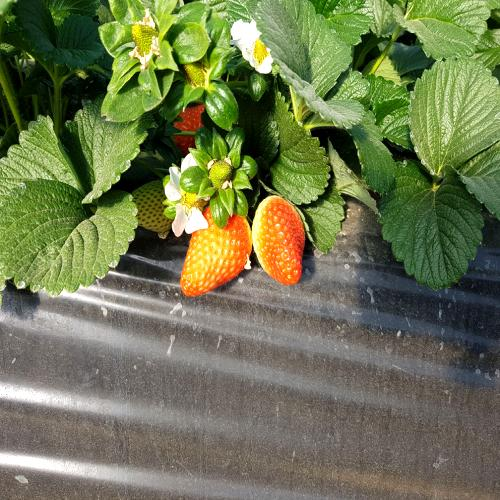partially-ripe: (252, 198, 309, 288)
ripe: (177, 195, 251, 306)
